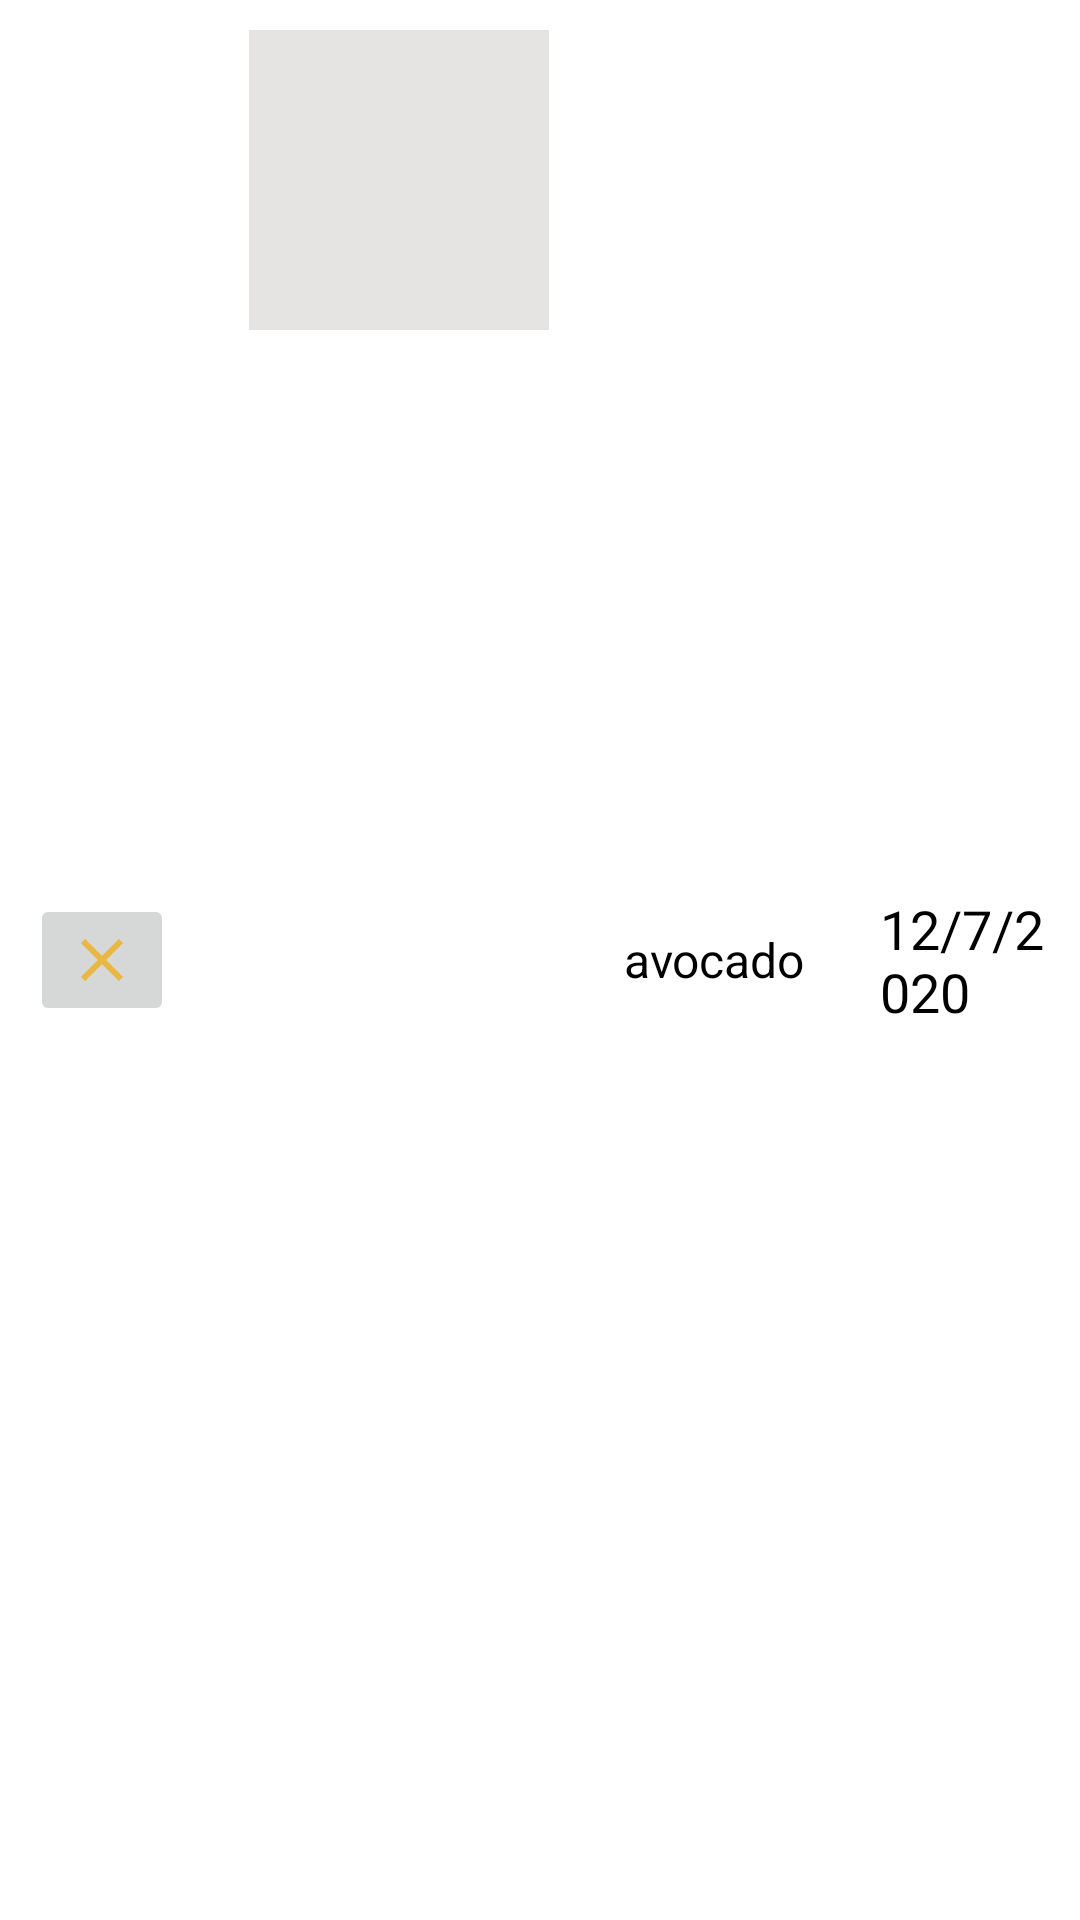

Where to tap for icons on this 1080*1920 app screen, as [x,y]:
delete fridge item: [102,960]
